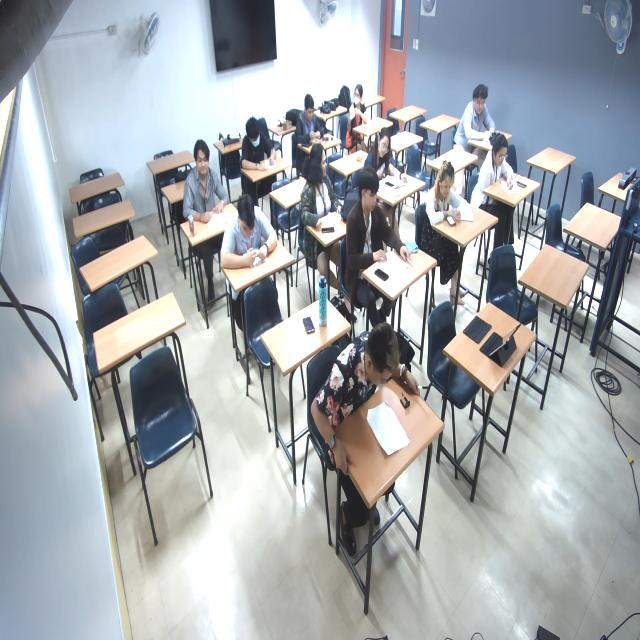read: (351, 173, 413, 279), (179, 140, 235, 240), (300, 142, 349, 240), (222, 202, 280, 275), (364, 127, 418, 201), (423, 166, 475, 239), (478, 135, 525, 206), (456, 82, 505, 149), (240, 122, 282, 181)
